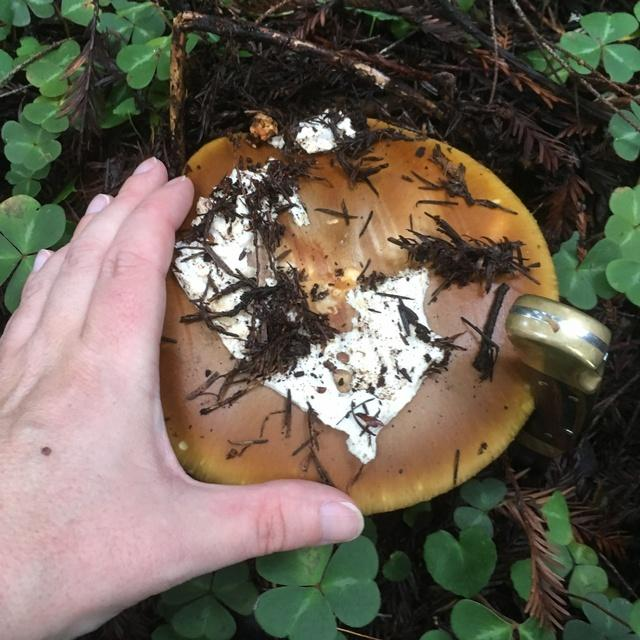edible_mushroom: (35, 105, 609, 516)
